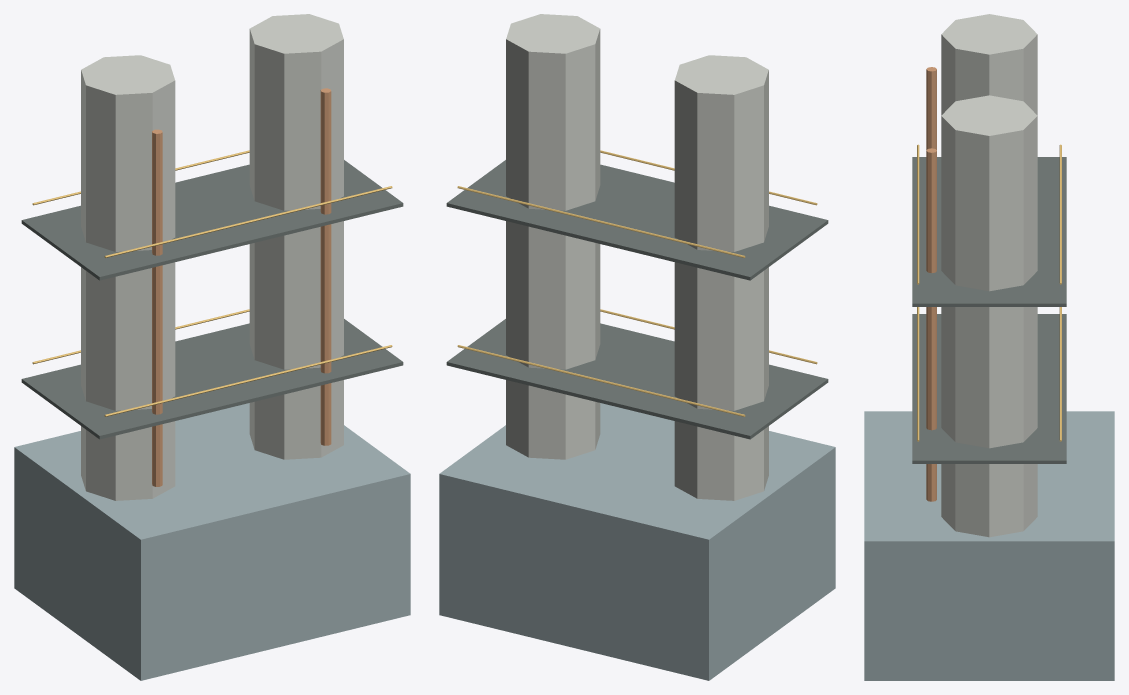
The picture shows the model from 3 angles, left to right: view 1: azimuth 30°, elevation 25°; view 2: azimuth 150°, elevation 25°; view 3: azimuth 270°, elevation 25°; orthographic projection.
Size of the model in its own units: 18 by 31 by 13.
